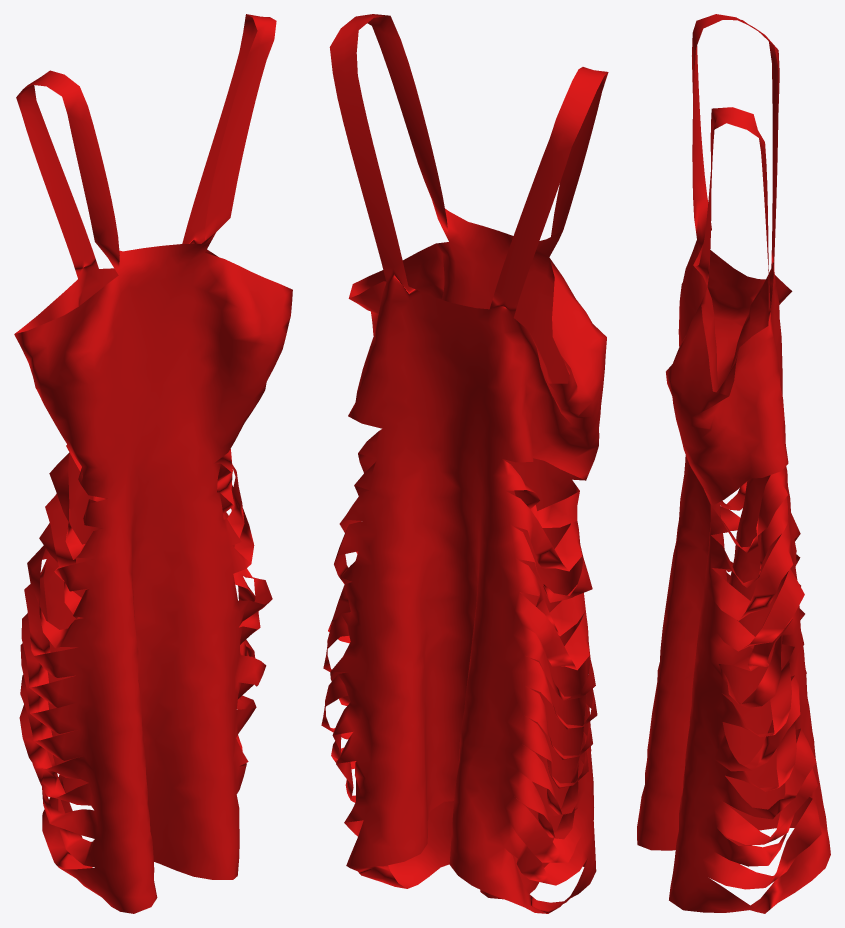
Rendered from dress.fbx.
The picture shows the model from 3 angles, left to right: view 1: azimuth 30°, elevation 25°; view 2: azimuth 150°, elevation 25°; view 3: azimuth 270°, elevation 25°; orthographic projection. The views are drawn at different scales.
Visible parts, largest first — view 1: dress; view 2: dress; view 3: dress.
Part boxes in pixels (x1,y1,x2,y2): dress: [14, 14, 292, 913]; dress: [321, 14, 608, 913]; dress: [637, 14, 830, 913].
Bounding box in the file's own units: 271 × 866 × 185.
